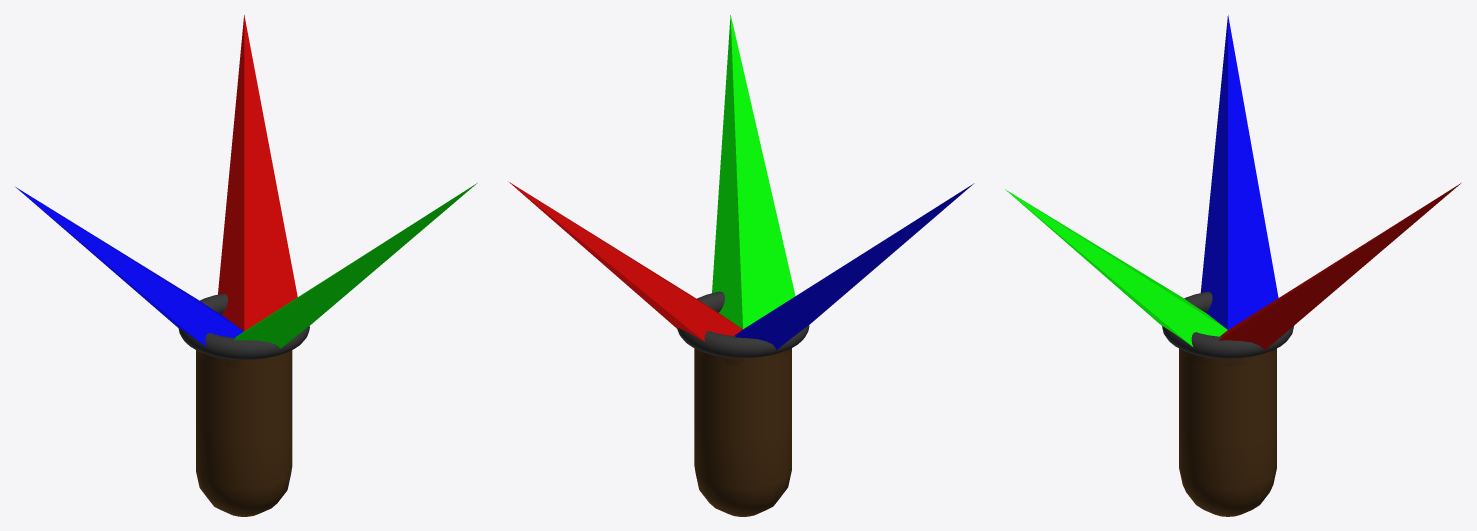
File: Handel.fbx
3 views of the same model, side by side, from view 1: azimuth 30°, elevation 25°; view 2: azimuth 150°, elevation 25°; view 3: azimuth 270°, elevation 25° (orthographic).
Visible parts, largest first — view 1: Capsule, Pyramid_2, Pyramid, Pyramid_1, Torus; view 2: Capsule, Pyramid_1, Pyramid_2, Pyramid, Torus; view 3: Capsule, Pyramid, Pyramid_2, Pyramid_1, Torus.
Part boxes in pixels (x1,y1,x2,y2): Capsule: (196, 350, 292, 516); Pyramid_2: (218, 15, 297, 331); Pyramid: (15, 187, 243, 346); Pyramid_1: (233, 183, 477, 348); Torus: (178, 293, 309, 360); Capsule: (694, 348, 791, 516); Pyramid_1: (712, 15, 795, 329); Pyramid_2: (508, 181, 742, 341); Pyramid: (734, 183, 974, 350); Torus: (677, 291, 809, 358); Capsule: (1179, 348, 1276, 516); Pyramid: (1200, 15, 1278, 329); Pyramid_2: (1218, 183, 1460, 350); Pyramid_1: (1005, 189, 1227, 346); Torus: (1162, 291, 1293, 358).
Bounding box in the file's own units: 260 × 271 × 290.
